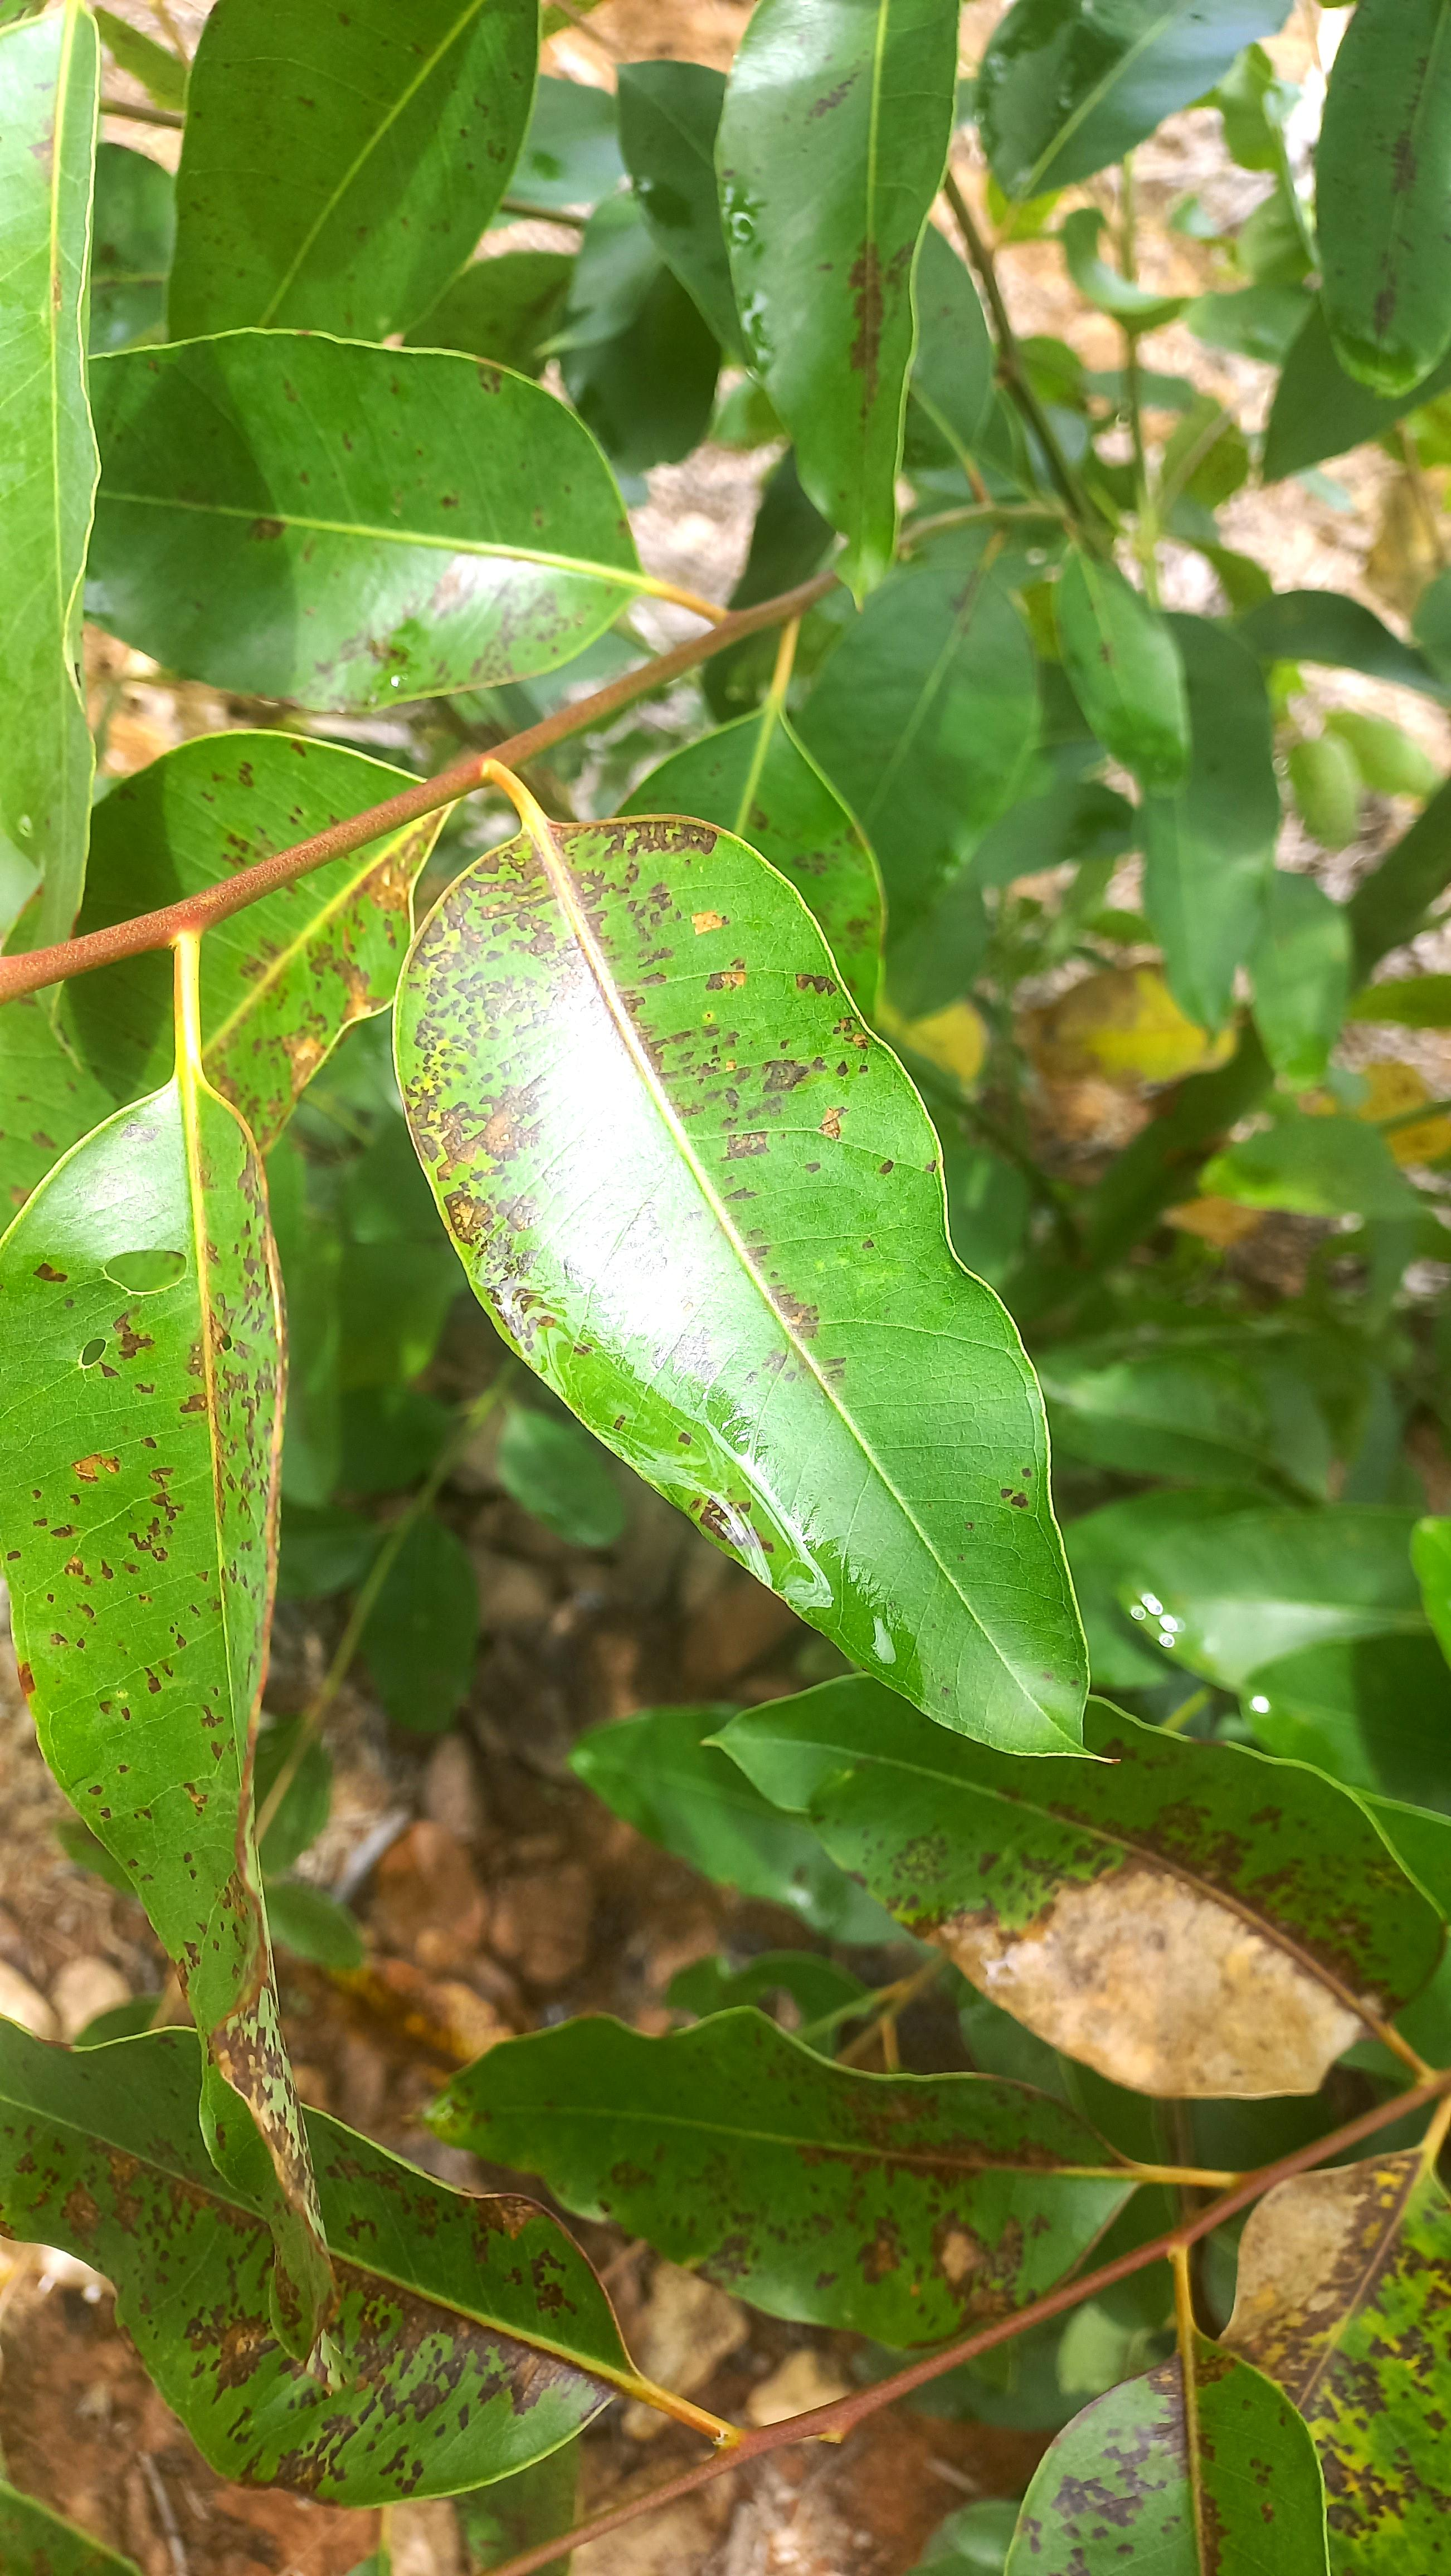Xanthomonas: (396, 814, 1120, 1796), (0, 1081, 340, 2272), (0, 2028, 642, 2514), (987, 2169, 1446, 2576), (665, 2029, 1182, 2348), (1040, 1828, 1451, 2116)
